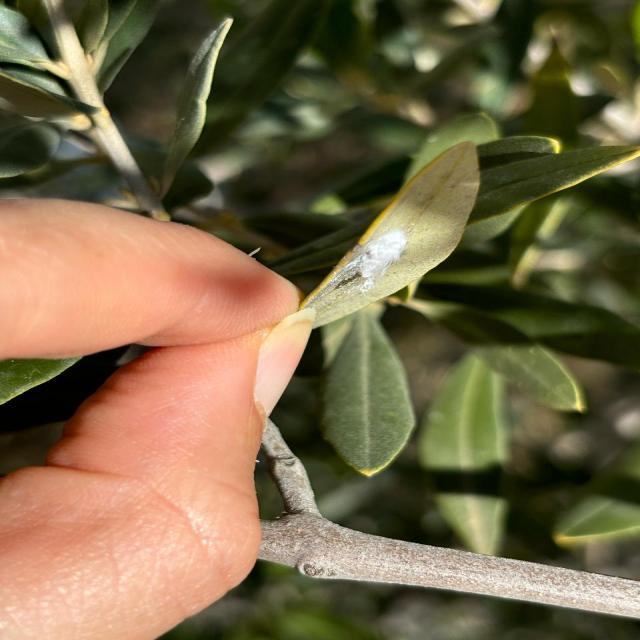Psyllid: (300, 142, 480, 328)
